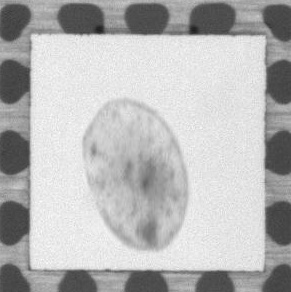DIE_INK: (80, 98, 188, 247)
